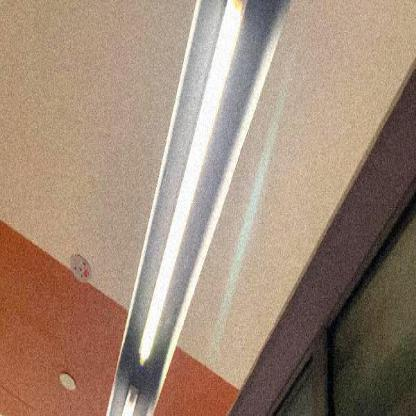light_on: (93, 0, 248, 380), (119, 389, 146, 415)
